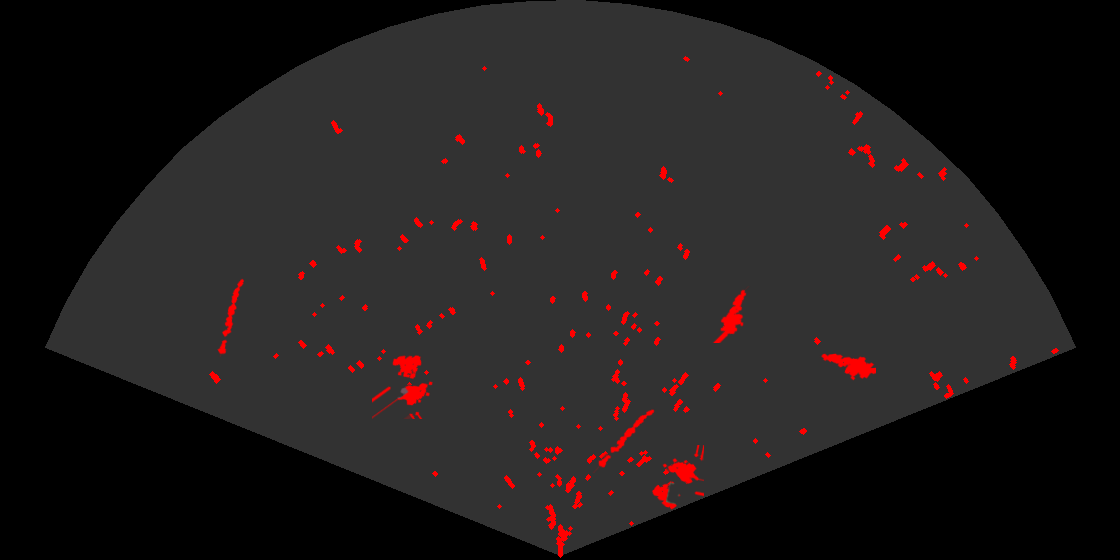cage: (372, 353, 434, 419), (650, 445, 704, 511)
chain: (591, 408, 656, 473), (216, 277, 246, 357)
frogman: (711, 286, 751, 343), (819, 352, 876, 382)
